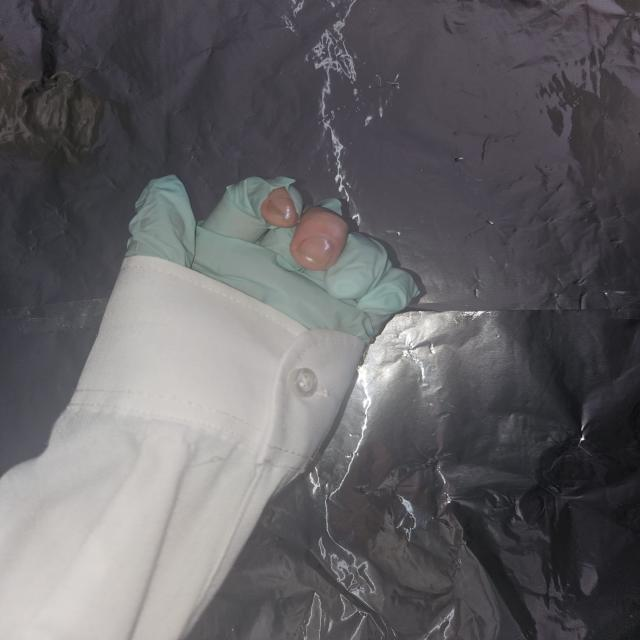gloves_damaged: (120, 172, 424, 351)
